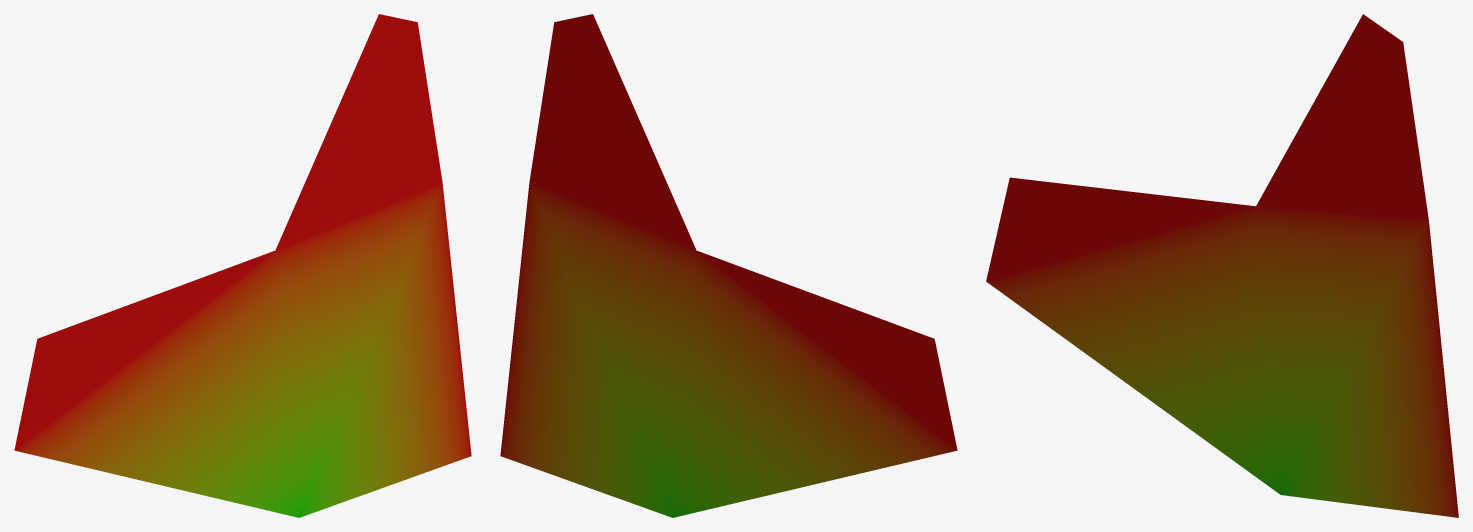
File: Raspberry_LOD4_Var4_wf0oefeja.fbx
The picture shows the model from 3 angles, left to right: view 1: azimuth 30°, elevation 25°; view 2: azimuth 150°, elevation 25°; view 3: azimuth 330°, elevation 25°; orthographic projection. The views are drawn at different scales.
Visible parts, largest first — view 1: _5dho_Var4_LOD4; view 2: _5dho_Var4_LOD4; view 3: _5dho_Var4_LOD4.
Part boxes in pixels (box(x1,y1,x2,y2)): _5dho_Var4_LOD4: box(14, 14, 471, 517); _5dho_Var4_LOD4: box(500, 14, 957, 517); _5dho_Var4_LOD4: box(986, 14, 1458, 517).
Size of the model in its own units: 105 by 107 by 1.27e-05.
